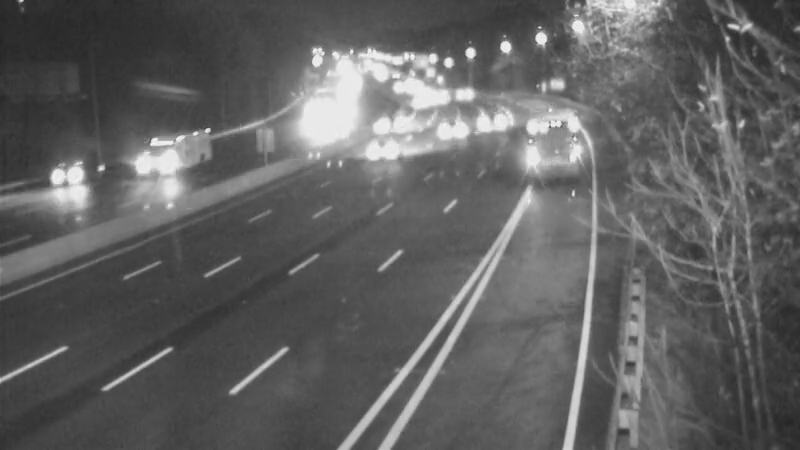vehicle: (496, 117, 576, 197), (14, 140, 94, 220), (124, 119, 204, 199), (432, 64, 482, 114), (402, 76, 452, 126), (472, 89, 522, 139), (373, 96, 423, 146), (414, 112, 464, 162), (365, 113, 415, 163), (290, 96, 340, 146)
